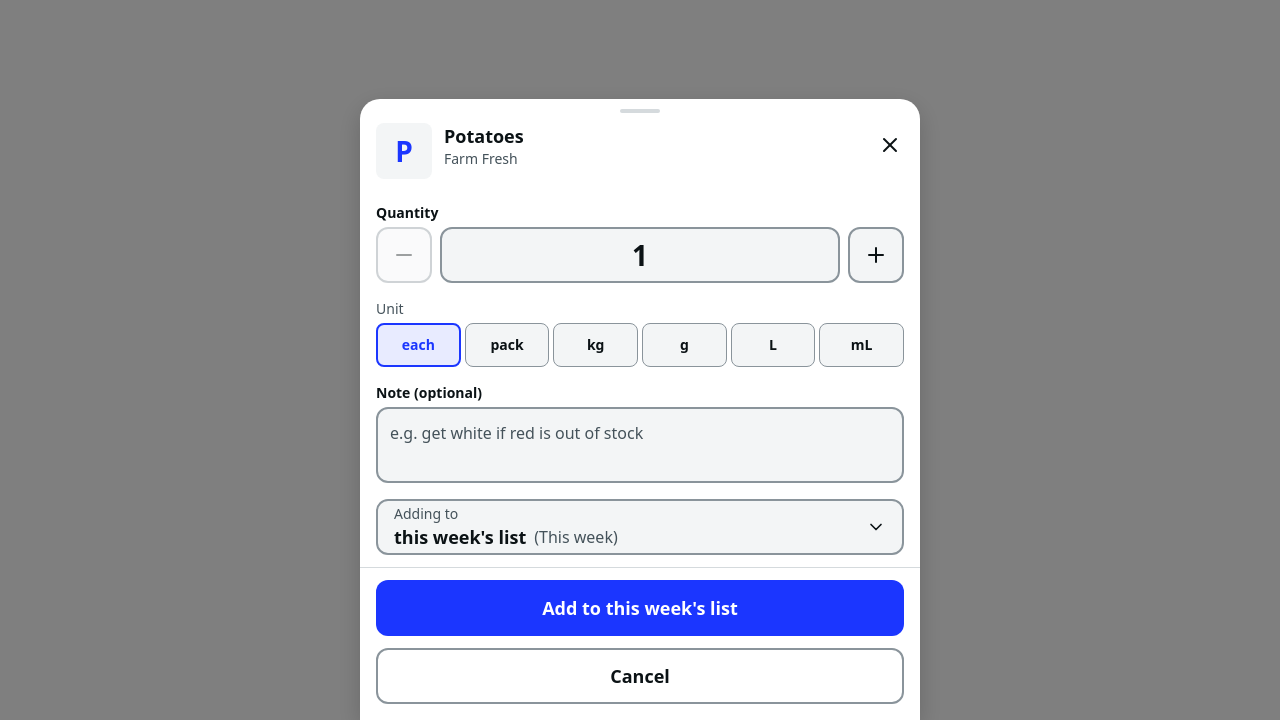
it: QuantityModal › has no presets for each and pack, and steps by 1 from a minimum of 1
This screenshot has width=1280, height=720.
expect the dialog is shown: met, box x1=360 y1=99 x2=920 y2=719
expect the field labelled "Quantity" holds "1": met, box x1=612 y1=229 x2=668 y2=281
Click the button named "Decrease quantity": (404, 255) x1=376 y1=227 x2=432 y2=283
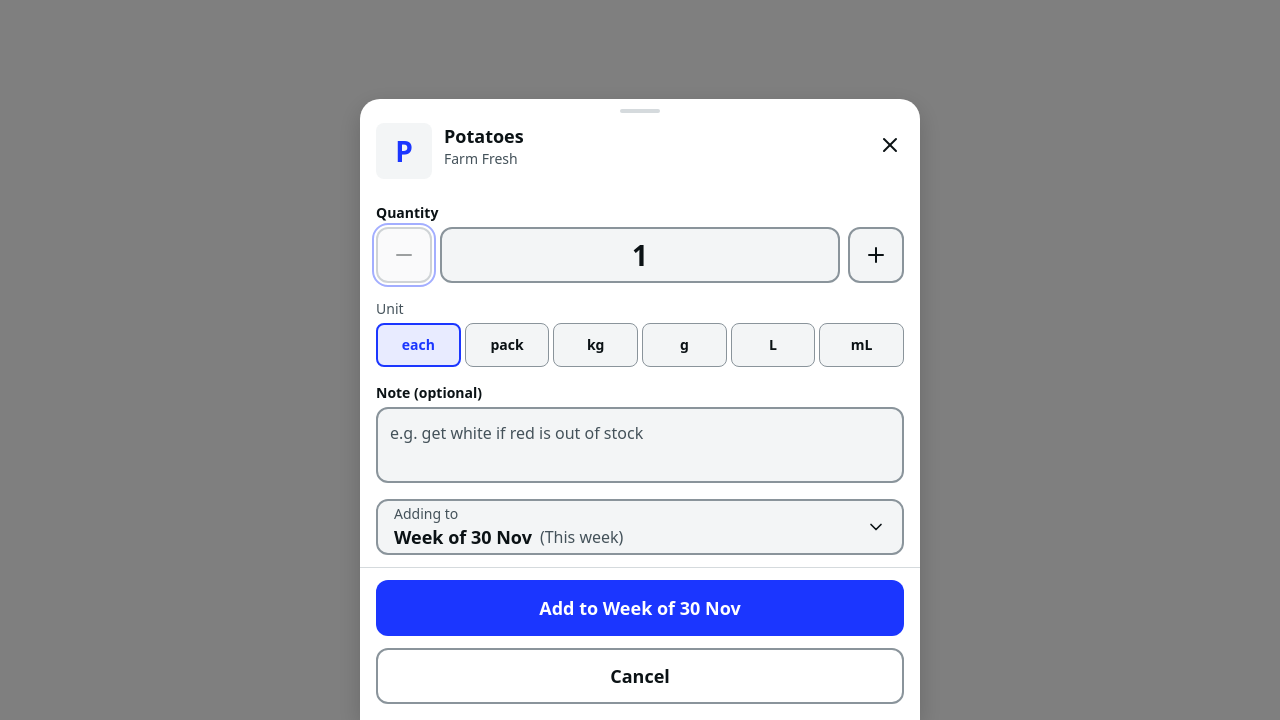
expect the field labelled "Quantity" holds "1": met, box x1=612 y1=229 x2=668 y2=281
Click the button named "Increase quantity": (876, 255) x1=848 y1=227 x2=904 y2=283
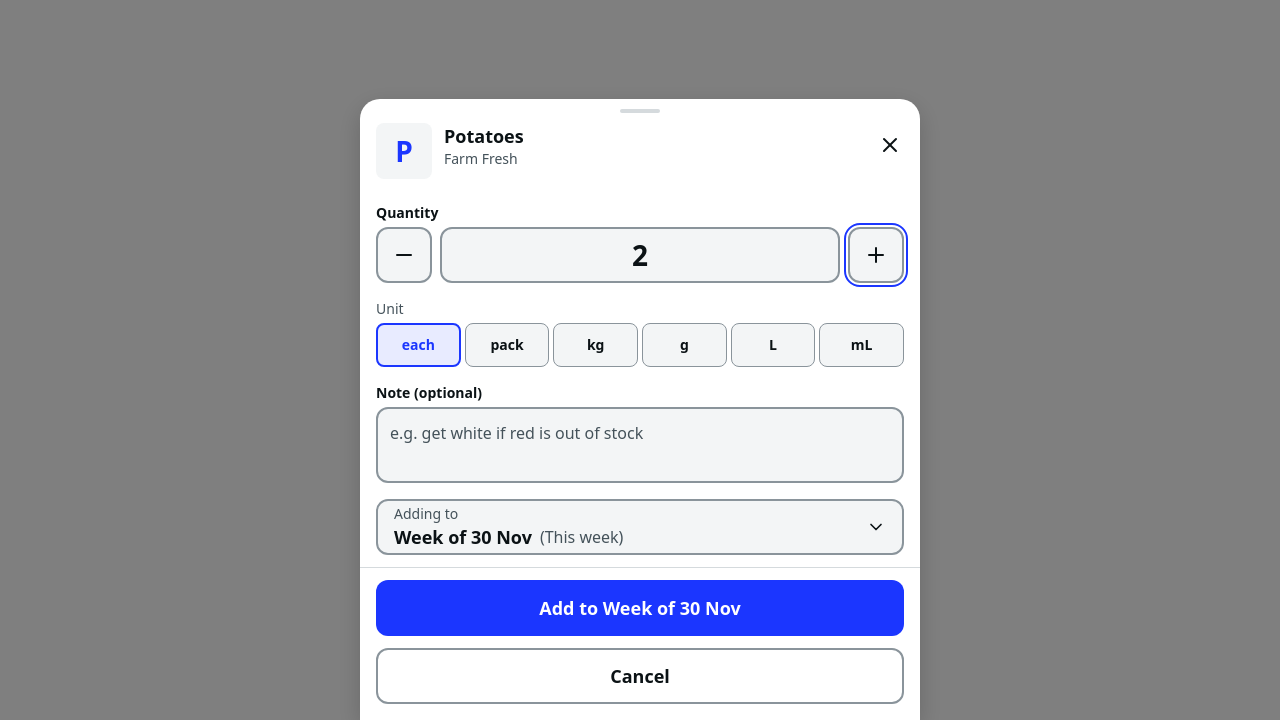
expect the field labelled "Quantity" holds "2": met, box x1=612 y1=229 x2=668 y2=281
